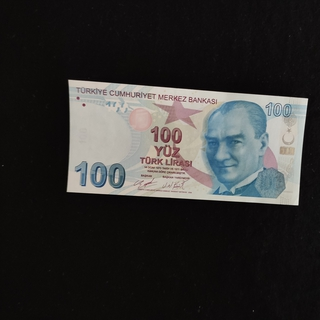100TLFront: (65, 78, 309, 205)
